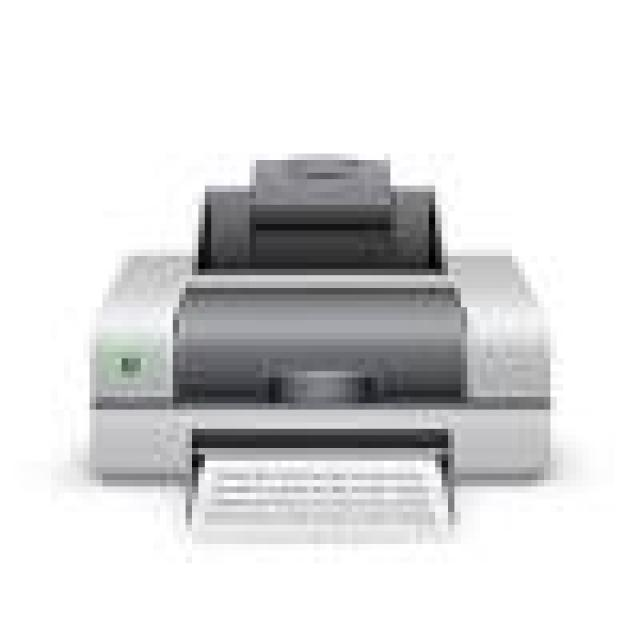printer: (72, 117, 564, 576)
